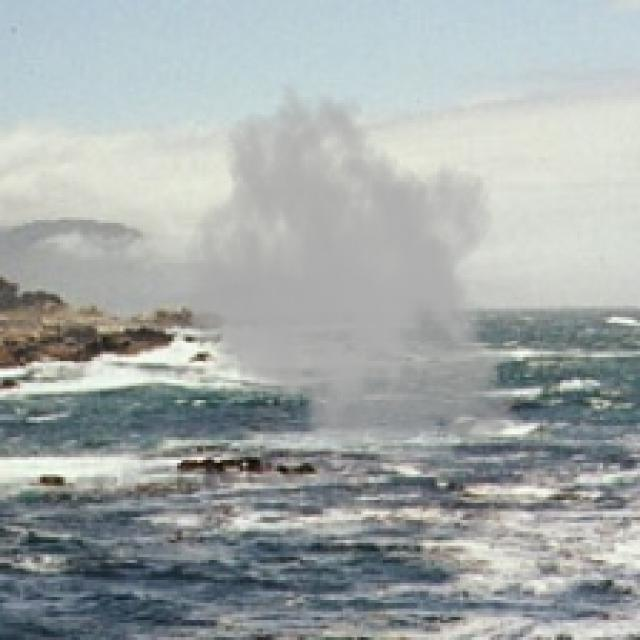Smoke: (182, 80, 528, 463)
